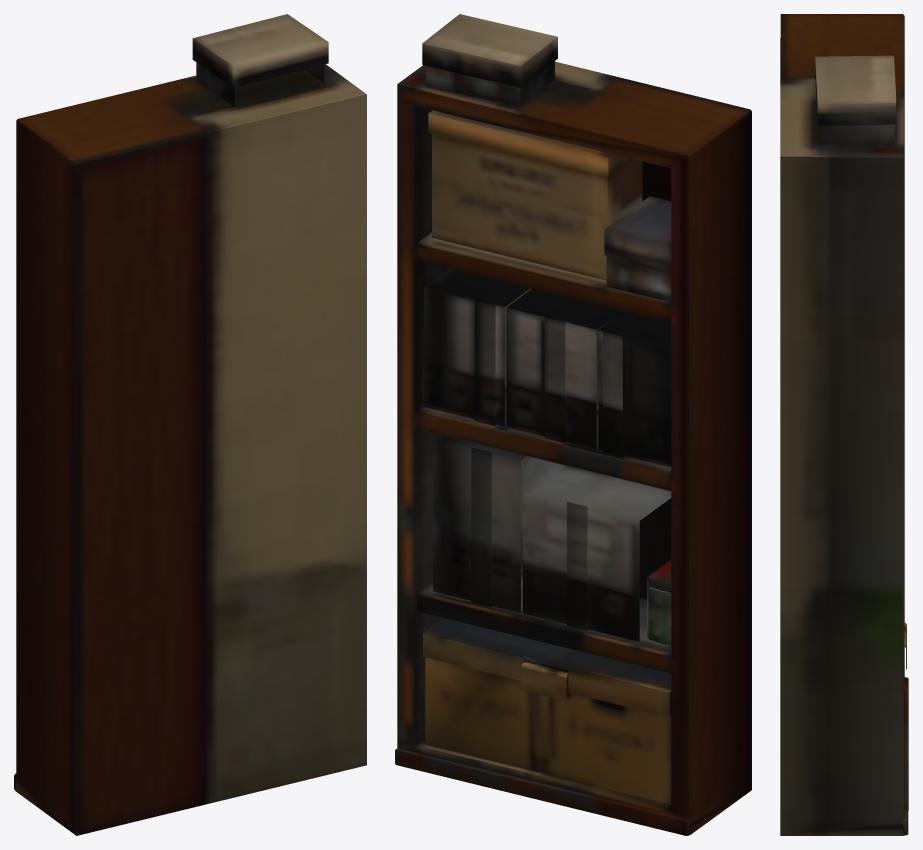
Rendered from OparetionRoom_AI_Prop.022.fbx.
The picture shows the model from 3 angles, left to right: view 1: azimuth 30°, elevation 25°; view 2: azimuth 150°, elevation 25°; view 3: azimuth 270°, elevation 25°; orthographic projection.
Visible parts, largest first — view 1: OparetionRoom_AI_Prop.022; view 2: OparetionRoom_AI_Prop.022; view 3: OparetionRoom_AI_Prop.022.
Boxes of the visible parts, x1,y1,x2,y2 form: OparetionRoom_AI_Prop.022: [14, 14, 366, 835]; OparetionRoom_AI_Prop.022: [395, 14, 751, 835]; OparetionRoom_AI_Prop.022: [780, 14, 908, 835].
Bounding box in the file's own units: 116 × 272 × 43.96.
